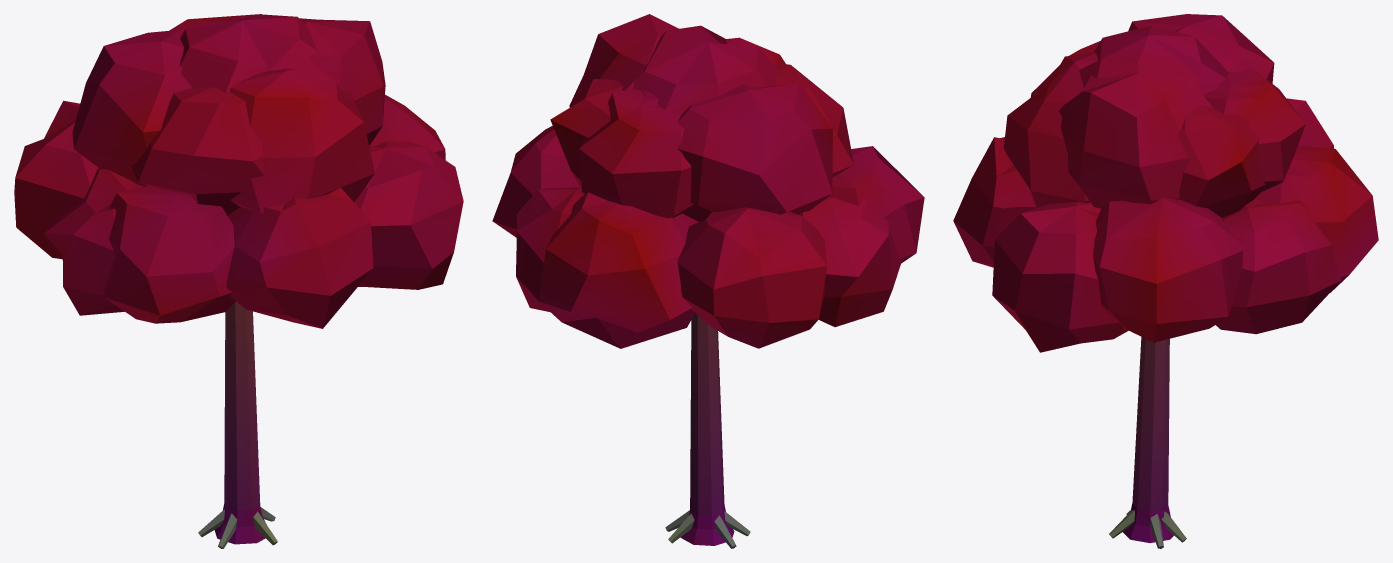
The model's file is Tree_Beech_Tall_01.glb.
The picture shows the model from 3 angles, left to right: view 1: azimuth 30°, elevation 25°; view 2: azimuth 150°, elevation 25°; view 3: azimuth 270°, elevation 25°; orthographic projection. The views are drawn at different scales.
Visible parts, largest first — view 1: Tree_Beech_Tall_01; view 2: Tree_Beech_Tall_01; view 3: Tree_Beech_Tall_01.
Part boxes in pixels (left/top/right/bottom): Tree_Beech_Tall_01: left=14, top=14, right=463, bottom=548; Tree_Beech_Tall_01: left=492, top=14, right=924, bottom=548; Tree_Beech_Tall_01: left=953, top=14, right=1378, bottom=548.
Bounding box in the file's own units: 8.47 × 10.87 × 8.43.
